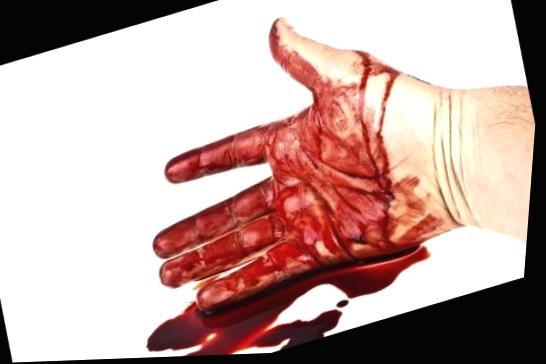Fire: (152, 27, 450, 358)
